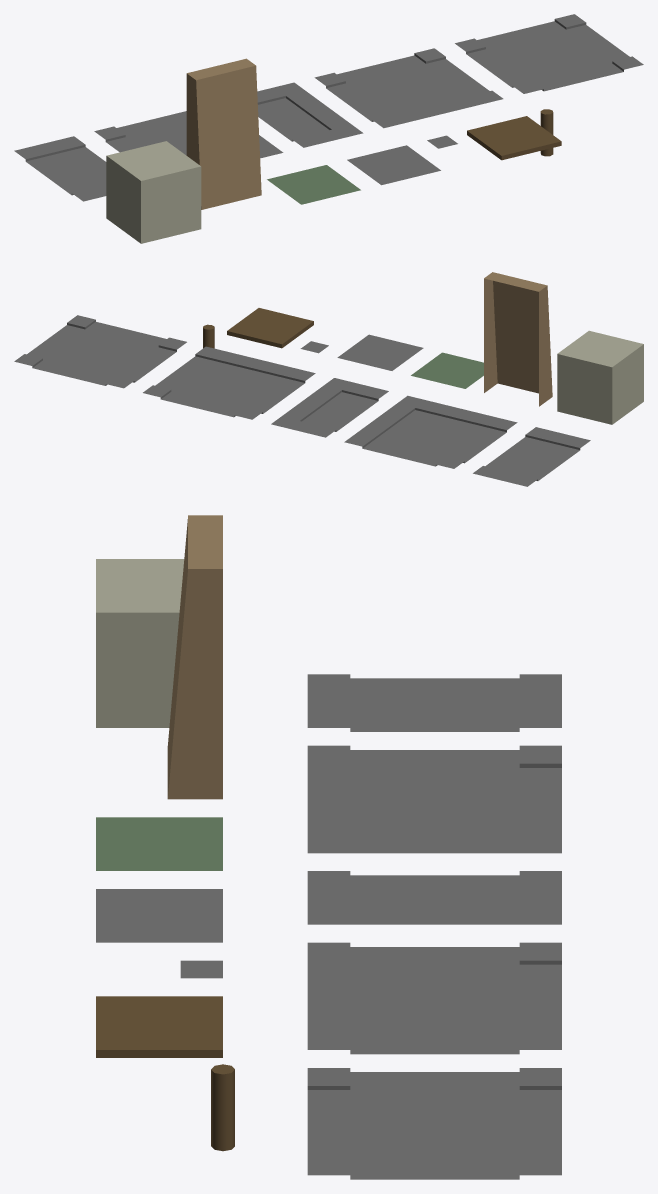
Rendered from PathsAndWorld.fbx.
The picture shows the model from 3 angles, top to bottom: view 1: azimuth 30°, elevation 25°; view 2: azimuth 150°, elevation 25°; view 3: azimuth 270°, elevation 25°; orthographic projection. The views are drawn at different scales.
Visible parts, largest first — view 1: Cliff, RoadIntersec, WallBox, RoadFork, RoadEnd, RoadTile, RoadCorner, BoardWalk, SideWalk, GroundTile, BoardSup; view 2: Cliff, RoadCorner, RoadFork, RoadIntersec, WallBox, RoadEnd, RoadTile, BoardWalk, SideWalk, GroundTile; view 3: RoadFork, RoadIntersec, RoadCorner, RoadTile, WallBox, Cliff, RoadEnd, BoardWalk, GroundTile, SideWalk, BoardSup.
Part boxes in pixels (x1,y1,x2,y2): Cliff: (186, 58, 261, 209); RoadIntersec: (455, 14, 643, 93); WallBox: (106, 141, 201, 243); RoadFork: (314, 48, 503, 128); RoadEnd: (257, 82, 363, 147); RoadTile: (14, 136, 106, 201); RoadCorner: (94, 111, 283, 158); BoardWalk: (467, 116, 561, 160); SideWalk: (347, 145, 440, 185); GroundTile: (267, 165, 360, 204); BoardSup: (540, 109, 553, 156); Cliff: (484, 272, 552, 406); RoadCorner: (344, 395, 517, 468); RoadFork: (143, 346, 315, 419); RoadIntersec: (14, 315, 186, 388); WallBox: (557, 330, 643, 424); RoadEnd: (271, 378, 388, 437); RoadTile: (473, 427, 590, 486); BoardWalk: (227, 308, 313, 348); SideWalk: (337, 334, 423, 370); GroundTile: (411, 352, 483, 388); RoadFork: (307, 942, 561, 1054); RoadIntersec: (307, 1068, 561, 1179); RoadCorner: (307, 745, 561, 853); RoadTile: (307, 674, 561, 731); WallBox: (96, 559, 184, 727); Cliff: (167, 515, 222, 799); RoadEnd: (307, 871, 561, 924); BoardWalk: (96, 996, 222, 1057); GroundTile: (96, 817, 222, 870); SideWalk: (96, 889, 222, 942); BoardSup: (211, 1064, 234, 1151).
Size of the model in its own units: 28 by 8.04 by 11.
